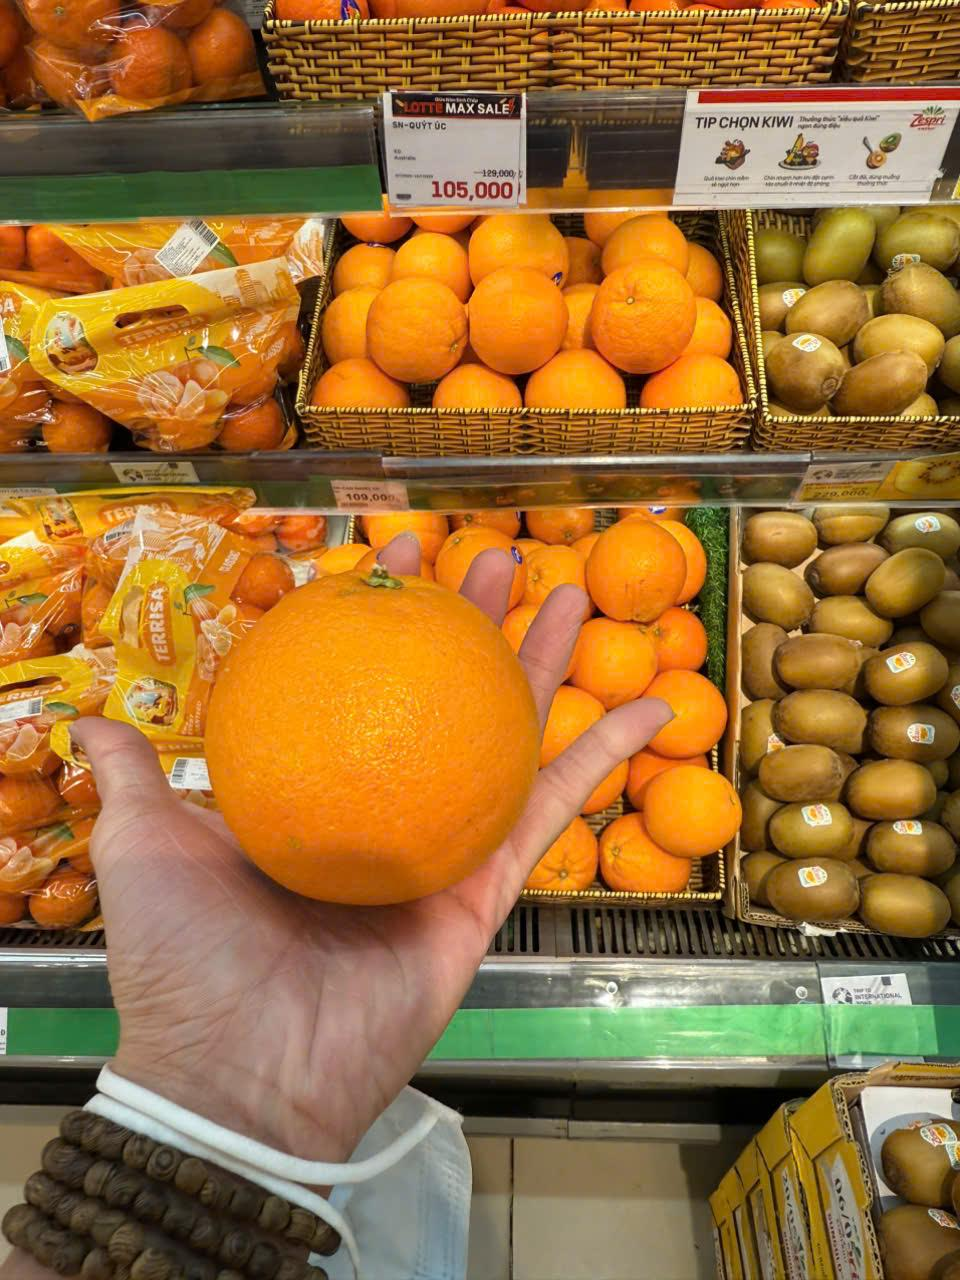orange: (193, 570, 542, 902), (590, 248, 702, 372), (588, 513, 696, 624), (367, 283, 468, 386), (465, 268, 564, 372), (642, 766, 747, 858), (640, 660, 732, 752), (570, 621, 659, 706), (530, 348, 645, 413), (428, 351, 521, 415), (320, 353, 407, 413), (661, 356, 743, 419)
